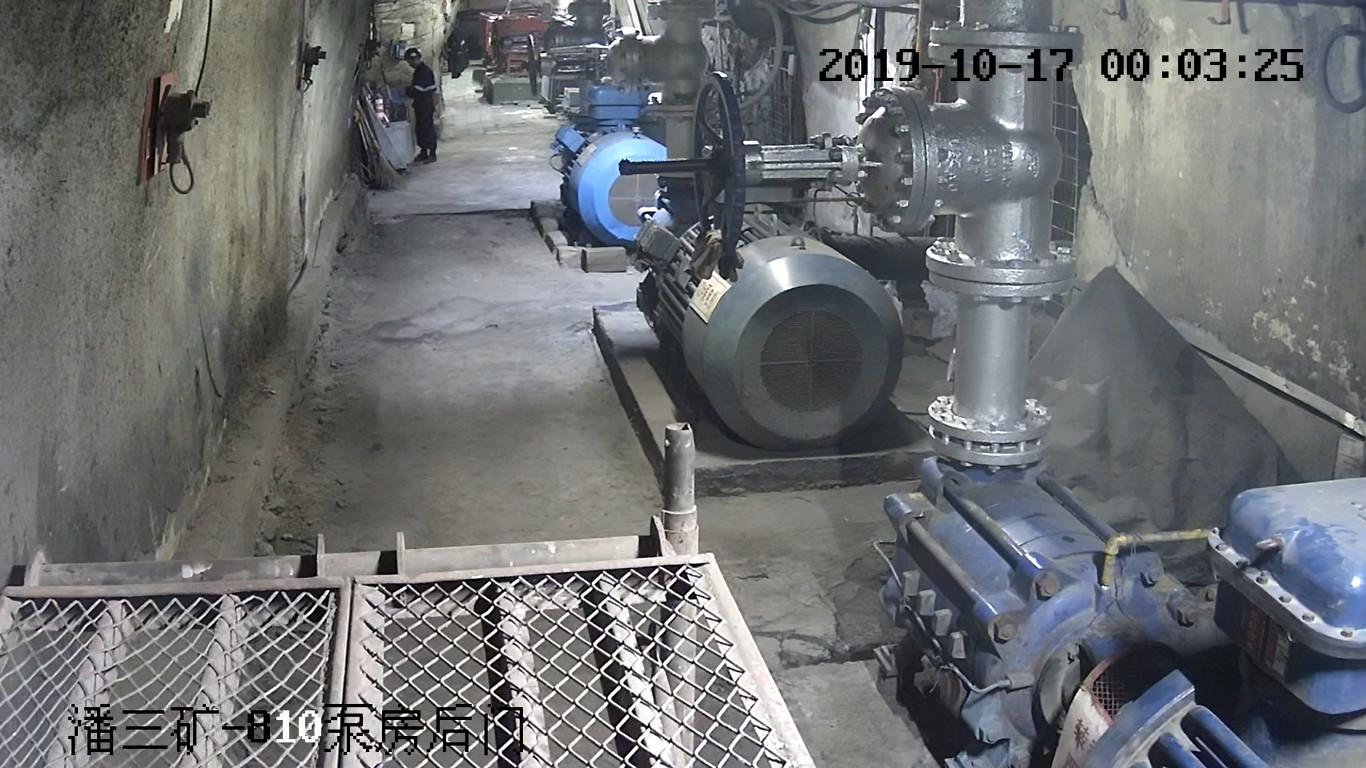helmet: (403, 46, 423, 59)
